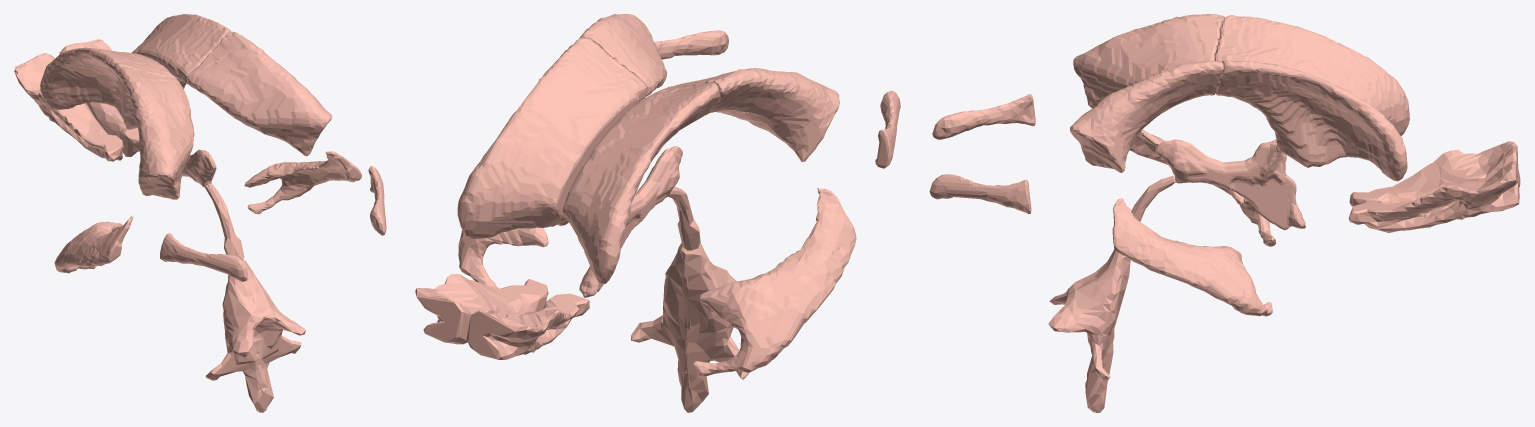
Rendered from ventricles.glb.
3 renders of one model, left to right at view 1: azimuth 30°, elevation 25°; view 2: azimuth 150°, elevation 25°; view 3: azimuth 270°, elevation 25°, orthographic. The views are drawn at different scales.
Parts seen in each view (by area): view 1: lateral_ventricle_lh, lateral_ventricle_rh, fourth_ventricle, cerebral_aqueduct, third_ventricle; view 2: lateral_ventricle_lh, lateral_ventricle_rh, fourth_ventricle, third_ventricle, cerebral_aqueduct; view 3: lateral_ventricle_rh, lateral_ventricle_lh, third_ventricle, fourth_ventricle, cerebral_aqueduct.
Boxes of the visible parts, left/top/right/bottom form: lateral_ventricle_lh: left=14, top=47, right=247, bottom=281; lateral_ventricle_rh: left=59, top=14, right=386, bottom=235; fourth_ventricle: left=205, top=260, right=305, bottom=412; cerebral_aqueduct: left=205, top=183, right=244, bottom=260; third_ventricle: left=182, top=149, right=216, bottom=187; lateral_ventricle_lh: left=466, top=68, right=900, bottom=376; lateral_ventricle_rh: left=415, top=14, right=728, bottom=344; fourth_ventricle: left=631, top=243, right=748, bottom=412; third_ventricle: left=579, top=146, right=682, bottom=297; cerebral_aqueduct: left=668, top=186, right=700, bottom=250; lateral_ventricle_rh: left=929, top=60, right=1519, bottom=316; lateral_ventricle_lh: left=932, top=14, right=1520, bottom=246; third_ventricle: left=1155, top=139, right=1305, bottom=230; fourth_ventricle: left=1048, top=249, right=1130, bottom=412; cerebral_aqueduct: left=1131, top=175, right=1175, bottom=221.
Bounding box in the file's own units: 93.79 × 111 × 163.
